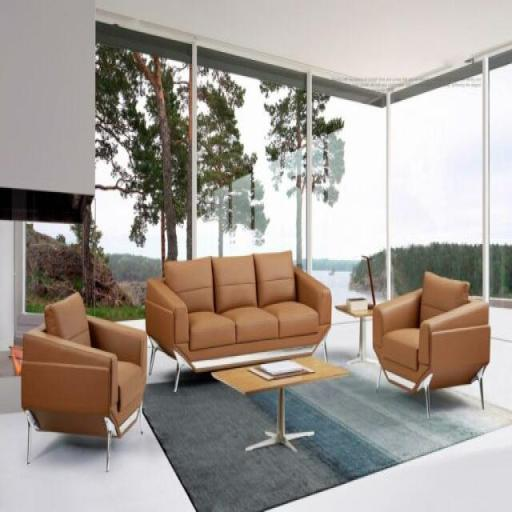sofa: (370, 238, 512, 484), (2, 279, 150, 512), (154, 235, 344, 393)
